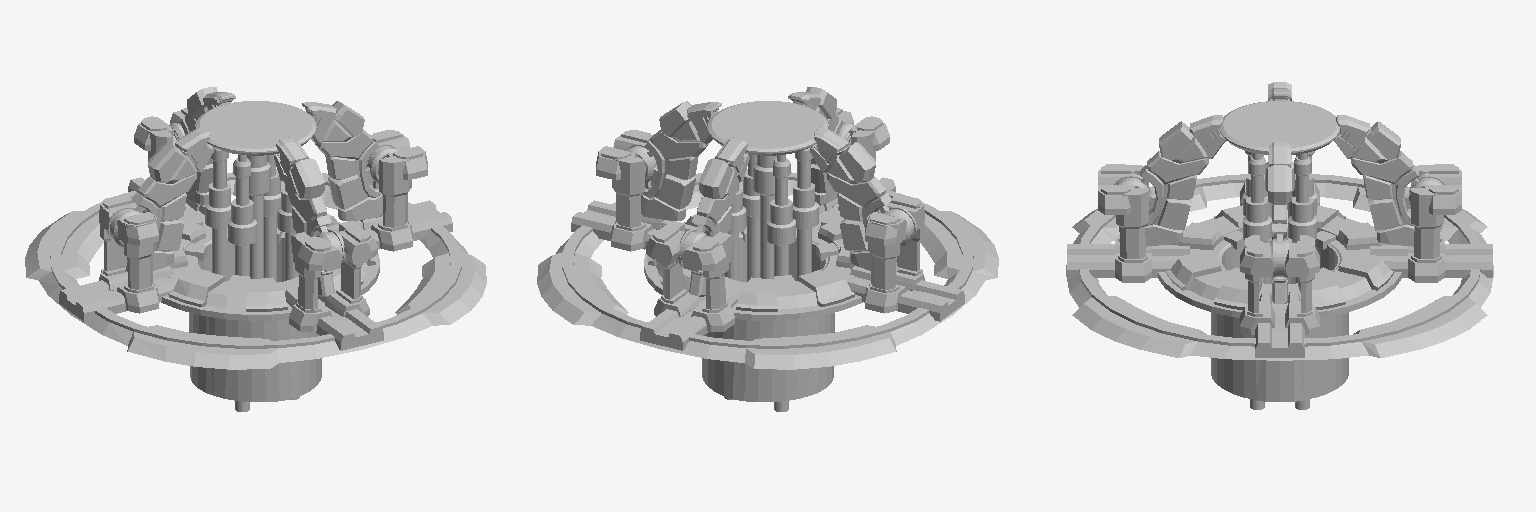
File: machine1.obj
3 views of the same model, side by side, from view 1: azimuth 30°, elevation 25°; view 2: azimuth 150°, elevation 25°; view 3: azimuth 270°, elevation 25° (orthographic).
Parts seen in each view (by area): view 1: Circle.005_Circle.006; view 2: Circle.005_Circle.006; view 3: Circle.005_Circle.006.
Part boxes in pixels (bbox=[...]): Circle.005_Circle.006: bbox=[25, 87, 486, 411]; Circle.005_Circle.006: bbox=[537, 87, 998, 411]; Circle.005_Circle.006: bbox=[1066, 82, 1493, 409].
Bounding box in the file's own units: 21.83 × 15.69 × 21.96.